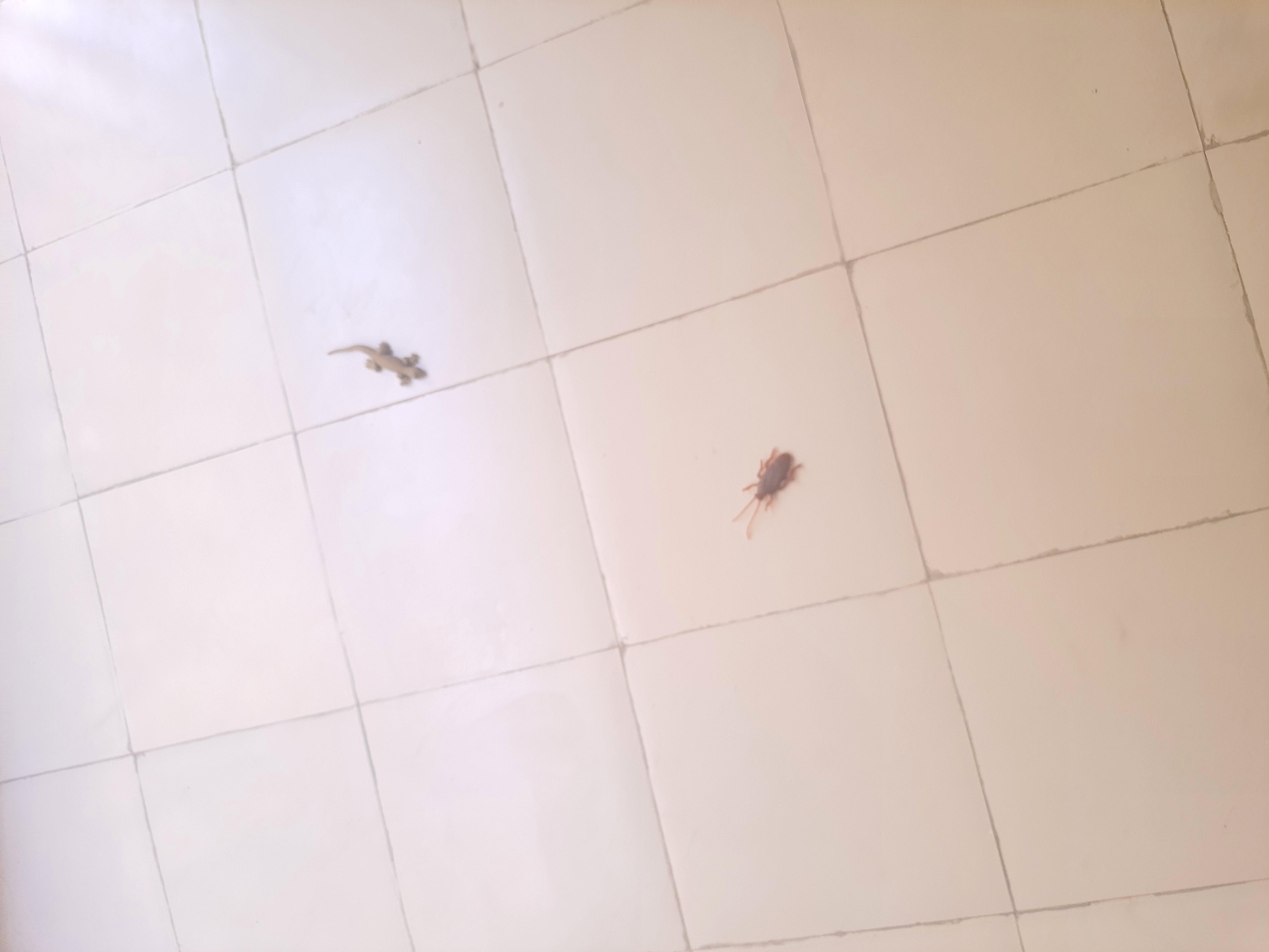cockroach: (531, 546, 693, 606)
lizard: (715, 240, 832, 327)
